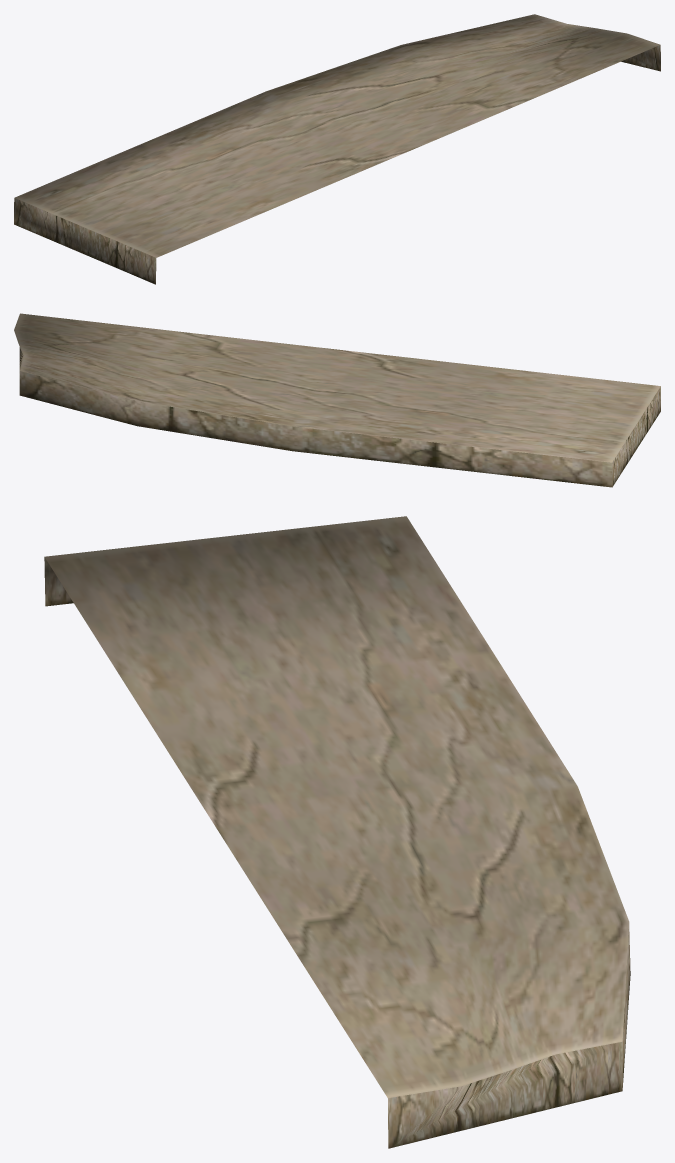
Rendered from HTOWN01_BAGROW1PORCH.obj.
3 views of the same model, one above another, from view 1: azimuth 30°, elevation 25°; view 2: azimuth 150°, elevation 25°; view 3: azimuth 270°, elevation 25° (orthographic). The views are drawn at different scales.
Parts seen in each view (by area): view 1: BagRow1Porch; view 2: BagRow1Porch; view 3: BagRow1Porch.
Part boxes in pixels (left/top/right/bottom): BagRow1Porch: left=14, top=14, right=660, bottom=284; BagRow1Porch: left=14, top=313, right=660, bottom=487; BagRow1Porch: left=44, top=516, right=630, bottom=1148.
Bounding box in the file's own units: 786 × 31.56 × 334.
